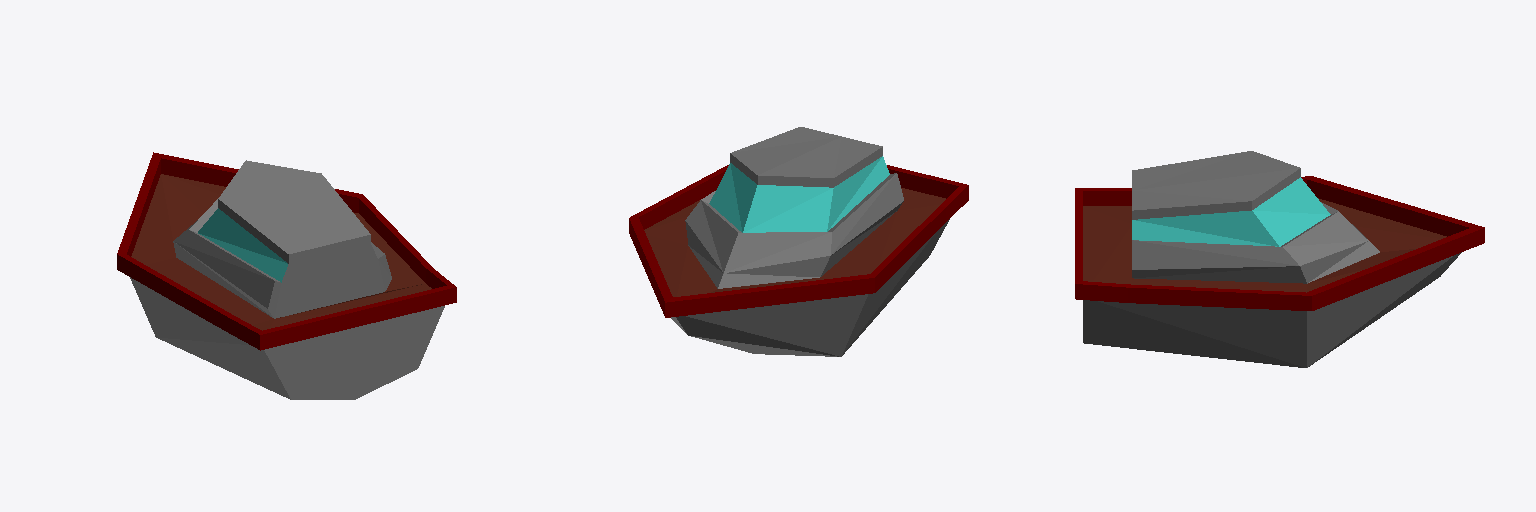
Rendered from ToyBoat2.obj.
3 views of the same model, side by side, from view 1: azimuth 30°, elevation 25°; view 2: azimuth 150°, elevation 25°; view 3: azimuth 270°, elevation 25° (orthographic).
Parts seen in each view (by area): view 1: Cube.001; view 2: Cube.001; view 3: Cube.001.
Part boxes in pixels (x1,y1,x2,y2): Cube.001: (117,152,456,399); Cube.001: (629,127,968,356); Cube.001: (1075,151,1484,367).
Bounding box in the file's own units: 3.09 × 2.11 × 4.47.